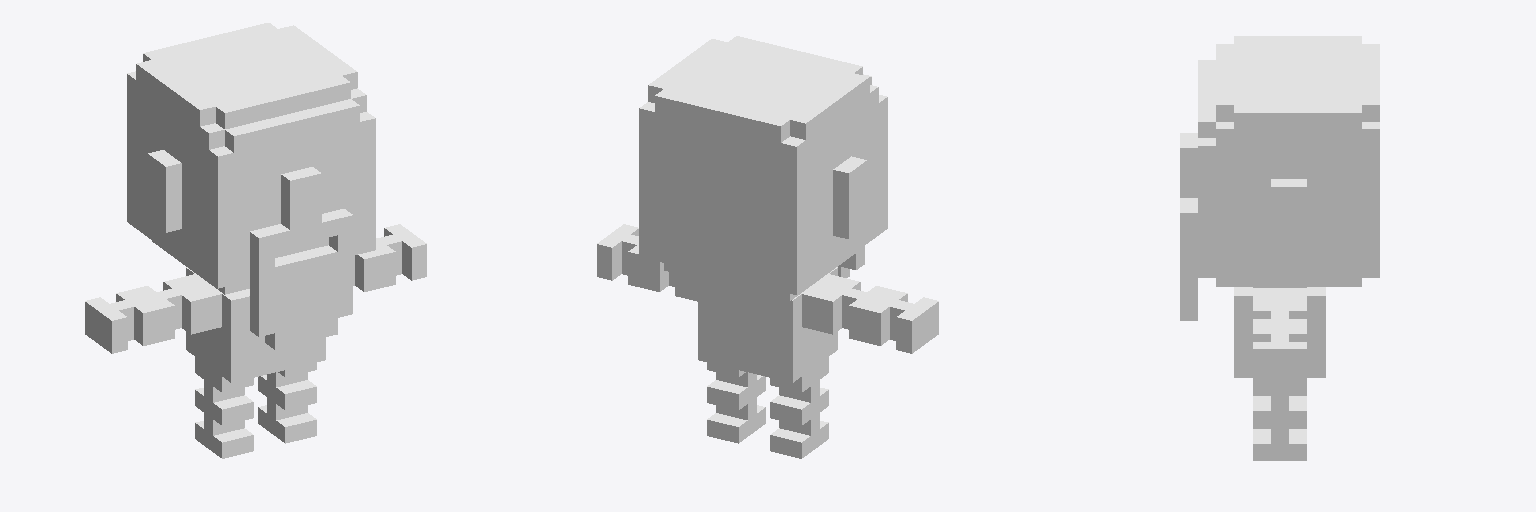
Rendered from OldMan2.obj.
3 renders of one model, left to right at view 1: azimuth 30°, elevation 25°; view 2: azimuth 150°, elevation 25°; view 3: azimuth 270°, elevation 25°, orthographic.
Parts seen in each view (by area): view 1: object 1; view 2: object 1; view 3: object 1.
Part boxes in pixels (left/top/right/bottom): object 1: left=85, top=23, right=426, bottom=458; object 1: left=597, top=36, right=938, bottom=458; object 1: left=1180, top=36, right=1379, bottom=460.
Bounding box in the file's own units: 2 × 2.2 × 1.1.